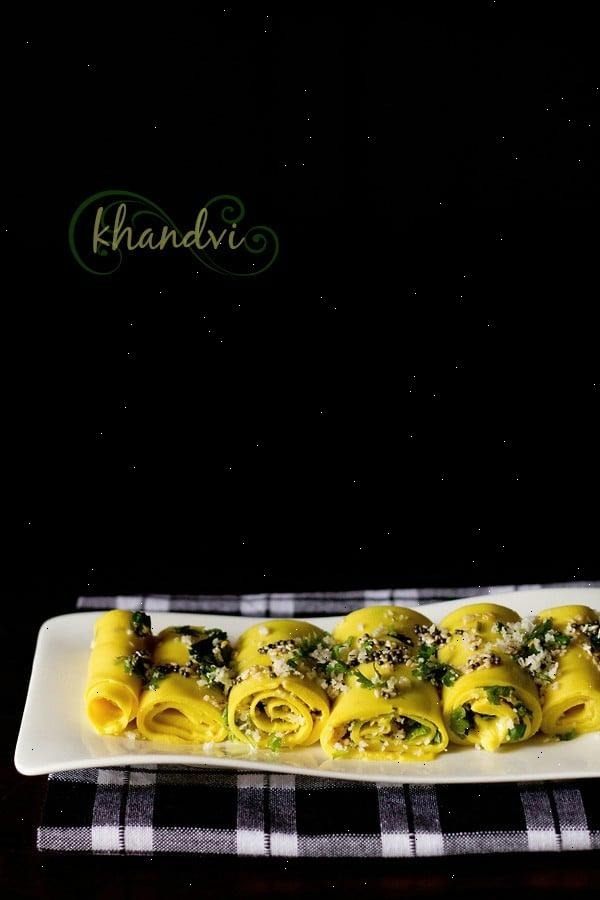khandvi: (60, 595, 600, 768)
